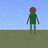person: (27, 7, 39, 34)
